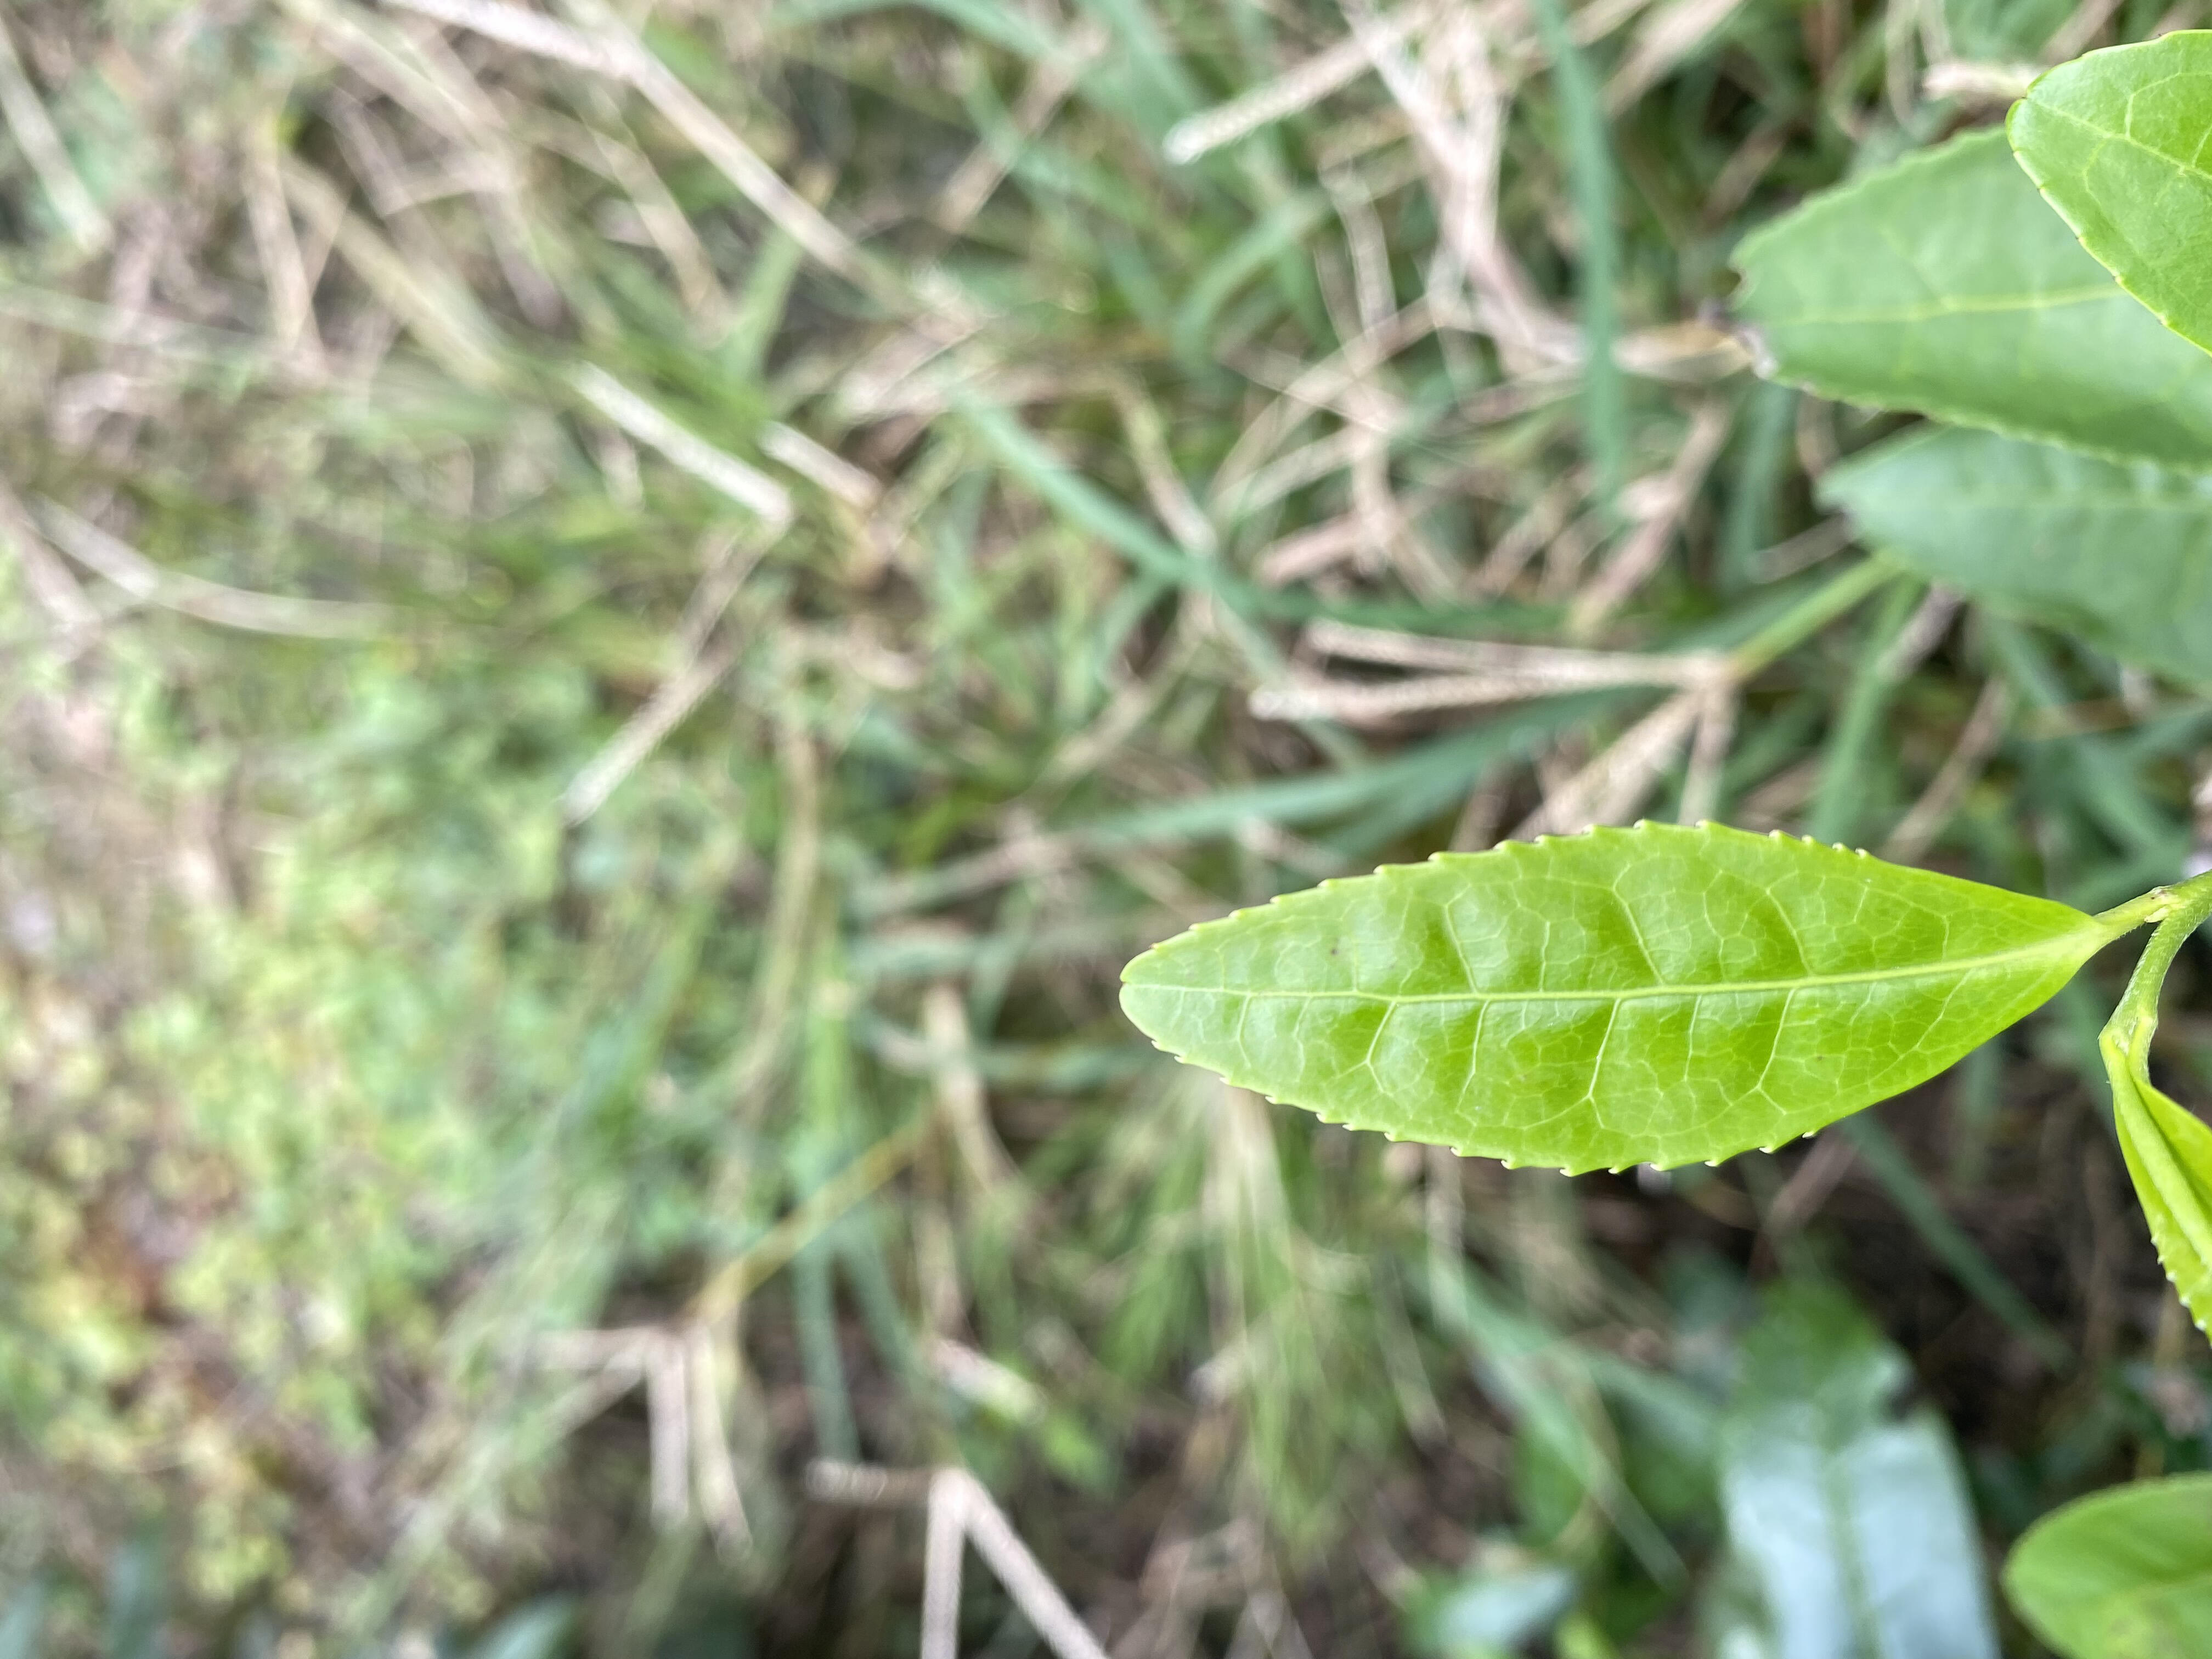healthy: (1118, 819, 2088, 1180)
